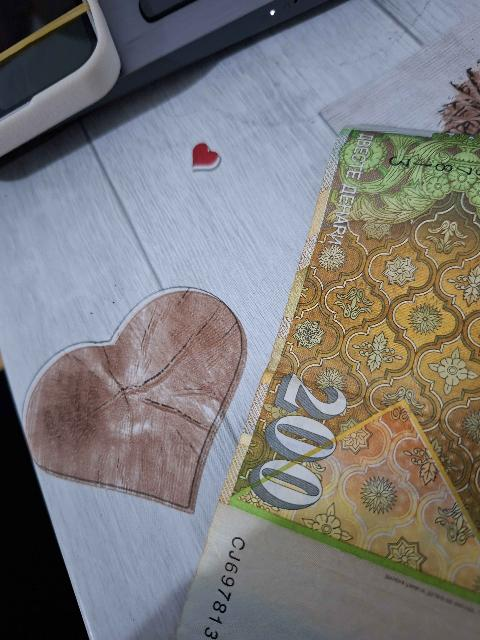note: (178, 131, 479, 639)
